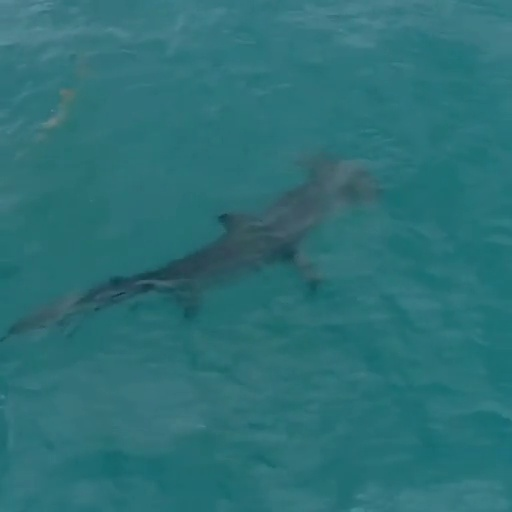shark: (2, 150, 384, 347)
